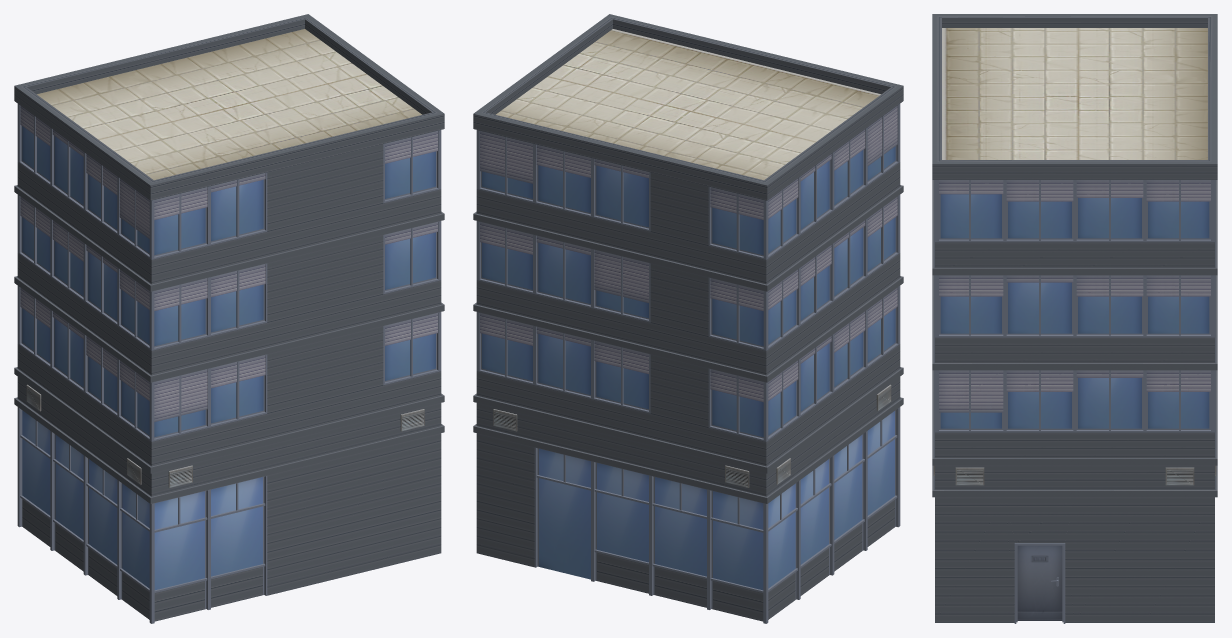
Rendered from Building_Office_1.fbx.
The picture shows the model from 3 angles, left to right: view 1: azimuth 30°, elevation 25°; view 2: azimuth 150°, elevation 25°; view 3: azimuth 270°, elevation 25°; orthographic projection. The views are drawn at different scales.
Visible parts, largest first — view 1: polySurface258; view 2: polySurface258; view 3: polySurface258.
Boxes of the visible parts, x1,y1,x2,y2 form: polySurface258: [14, 14, 444, 623]; polySurface258: [473, 14, 903, 623]; polySurface258: [932, 14, 1217, 623].
Bounding box in the file's own units: 1015 × 1450 × 815.
